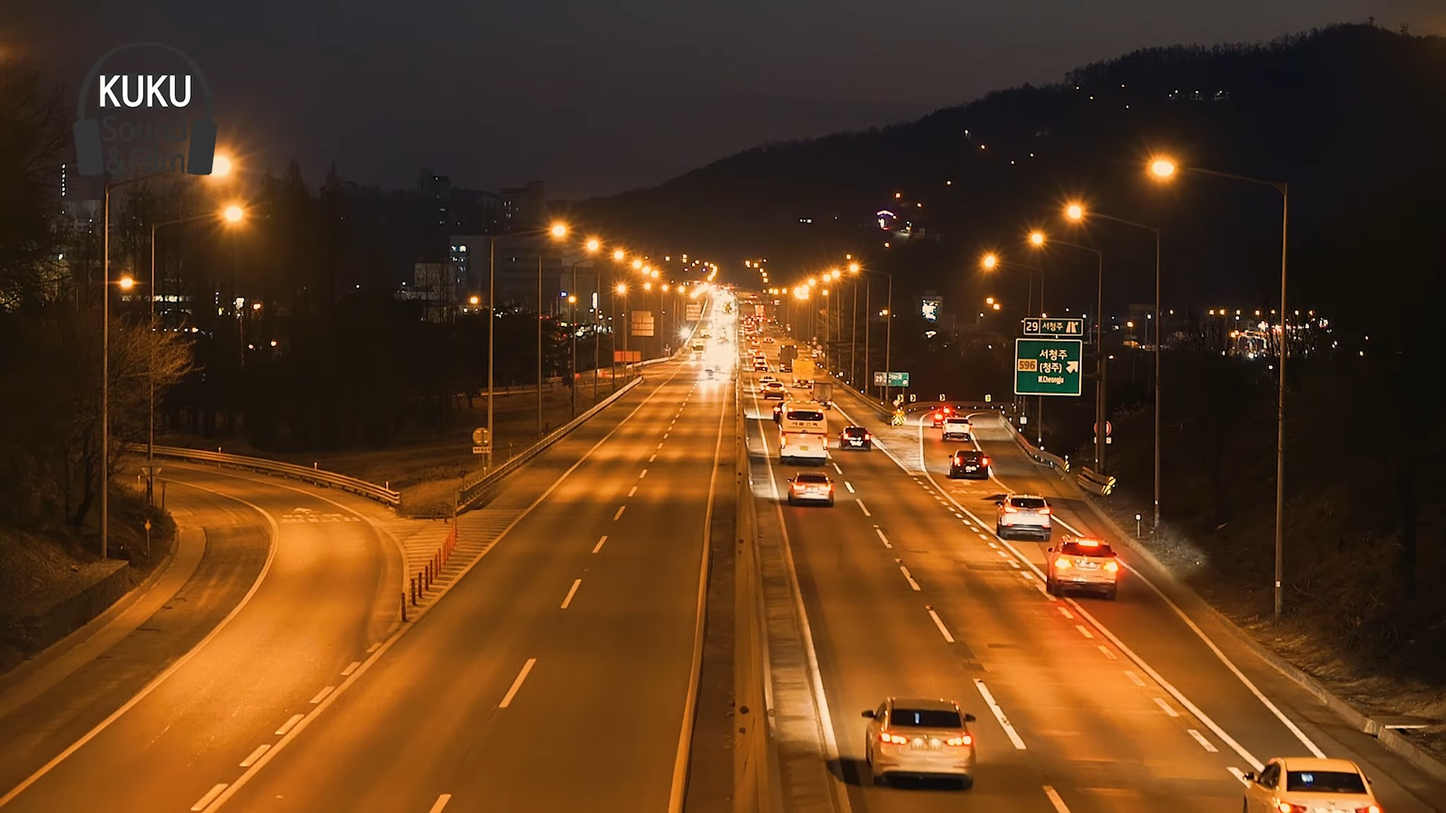car: (864, 688, 979, 786), (1042, 533, 1127, 596), (770, 399, 835, 461), (998, 486, 1048, 535), (946, 443, 993, 484), (786, 470, 836, 504)
